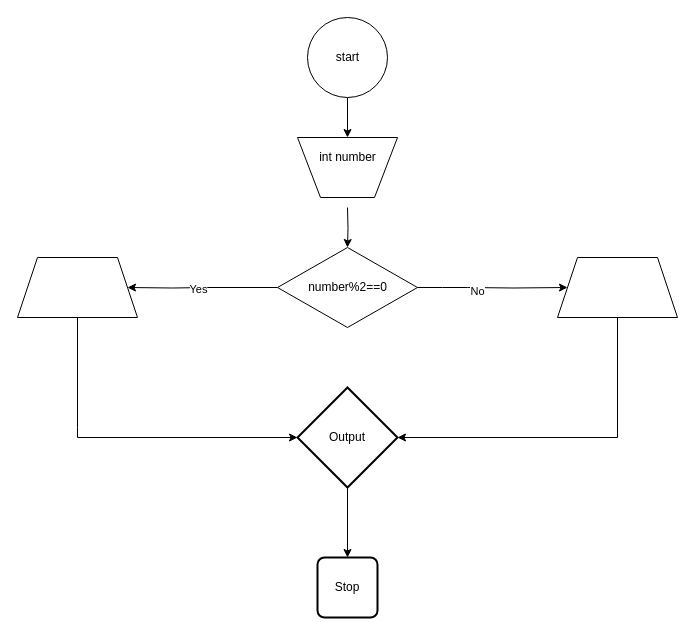
This 695x636 diagram has some shape labels left out. The shapes that lost their labels are listed below. From the top down, each one's centre as x and y in pixels, then its label:
At point (77, 287): "Even number".
At point (617, 287): "Odd number".
